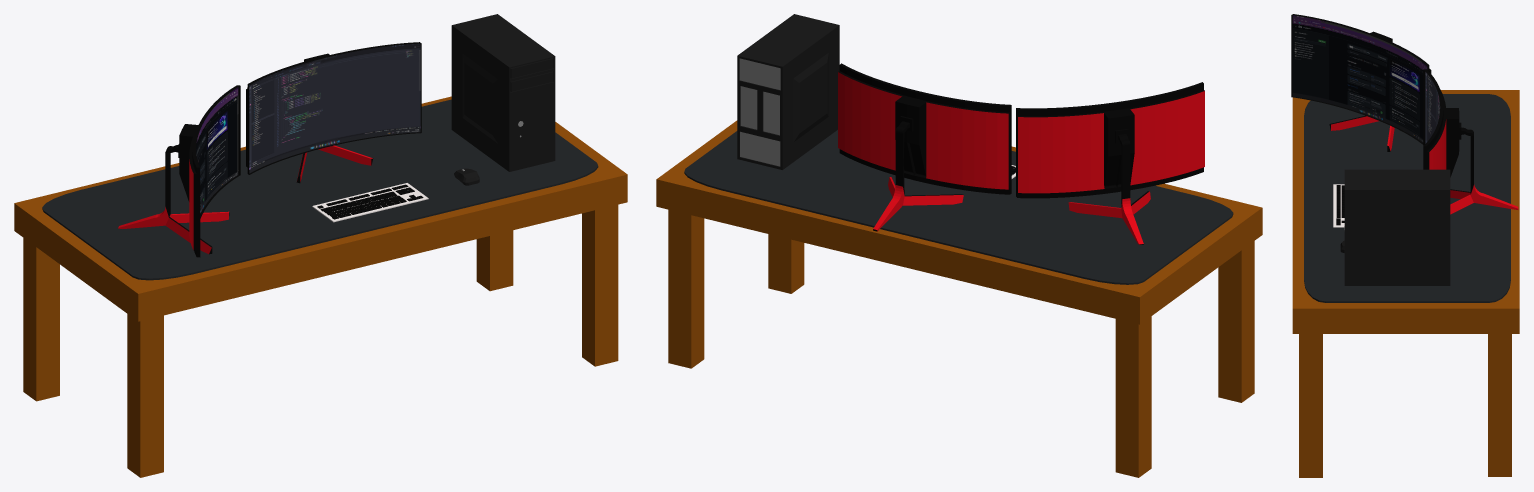
File: computer.glb
3 views of the same model, side by side, from view 1: azimuth 30°, elevation 25°; view 2: azimuth 150°, elevation 25°; view 3: azimuth 270°, elevation 25° (orthographic). The views are drawn at different scales.
Visible parts, largest first — view 1: Mousepad.001, Cube.007, screen, Computer, Cube.006, Cube.003, Cube.004, monitor.001, screen.001, Cube.001, monitor, Cube.029 (+1 smaller); view 2: Mousepad.001, Cube.007, monitor.001, monitor, Computer, Cube.004, Cube.001, Cube.006, Cube.003; view 3: Mousepad.001, Computer, Cube.007, screen.001, Cube.003, Cube.001, monitor, monitor.001, screen, Cube.029, Plane.
Part boxes in pixels (x1=…): Mousepad.001: x1=42, y1=99, x2=598, y2=280; Cube.007: x1=14, y1=96, x2=627, y2=321; screen: x1=249, y1=43, x2=420, y2=173; Computer: x1=451, y1=14, x2=555, y2=171; Cube.006: x1=127, y1=314, x2=163, y2=477; Cube.003: x1=582, y1=204, x2=618, y2=366; Cube.004: x1=23, y1=238, x2=59, y2=401; monitor.001: x1=118, y1=85, x2=240, y2=257; screen.001: x1=196, y1=87, x2=238, y2=213; Cube.001: x1=476, y1=230, x2=513, y2=291; monitor: x1=246, y1=42, x2=421, y2=183; Cube.029: x1=317, y1=184, x2=423, y2=219; Mousepad.001: x1=684, y1=130, x2=1233, y2=284; Cube.007: x1=656, y1=120, x2=1262, y2=324; monitor.001: x1=1016, y1=82, x2=1204, y2=244; monitor: x1=838, y1=63, x2=1011, y2=231; Computer: x1=737, y1=14, x2=839, y2=169; Cube.004: x1=1115, y1=316, x2=1151, y2=477; Cube.001: x1=668, y1=209, x2=704, y2=368; Cube.006: x1=1218, y1=241, x2=1254, y2=402; Cube.003: x1=768, y1=234, x2=804, y2=293; Mousepad.001: x1=1304, y1=94, x2=1510, y2=302; Computer: x1=1344, y1=169, x2=1450, y2=285; Cube.007: x1=1292, y1=90, x2=1519, y2=333; screen.001: x1=1292, y1=15, x2=1427, y2=142; Cube.003: x1=1299, y1=334, x2=1322, y2=477; Cube.001: x1=1488, y1=334, x2=1511, y2=476; monitor: x1=1423, y1=69, x2=1518, y2=214; monitor.001: x1=1291, y1=14, x2=1431, y2=151; screen: x1=1425, y1=72, x2=1440, y2=143; Cube.029: x1=1336, y1=185, x2=1344, y2=225; Plane: x1=1333, y1=184, x2=1344, y2=227.
Size of the model in its own units: 7.97 by 4.66 by 3.52.
Materials: 16 (4 with a texture image).
